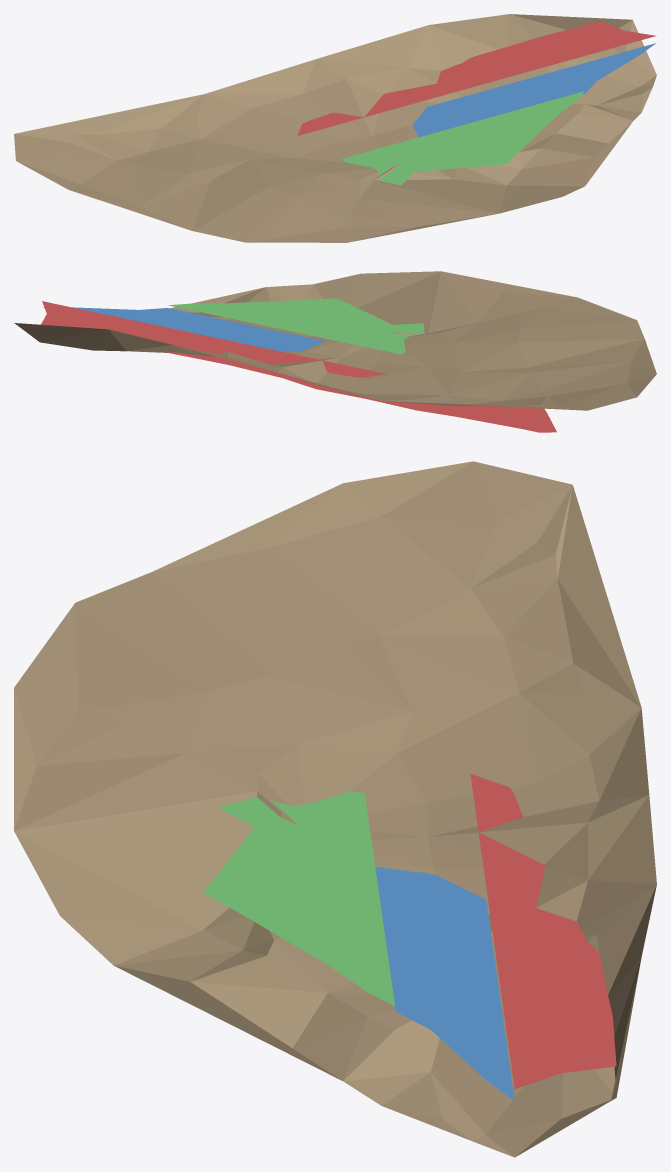
The model's file is CINCIN_arazi_SU_local.dae.
3 views of the same model, one above another, from view 1: azimuth 30°, elevation 25°; view 2: azimuth 150°, elevation 25°; view 3: azimuth 270°, elevation 25° (orthographic). The views are drawn at different scales.
Parts seen in each view (by area): view 1: n0, n3, n1, n2; view 2: n0, n1, n3, n2; view 3: n0, n3, n1, n2.
Boxes of the visible parts, x1,y1,x2,y2 form: n0: [14, 14, 656, 242]; n3: [342, 91, 584, 185]; n1: [297, 21, 656, 135]; n2: [412, 43, 656, 137]; n0: [14, 271, 656, 410]; n1: [41, 301, 556, 432]; n3: [168, 298, 424, 354]; n2: [43, 307, 325, 352]; n0: [14, 461, 656, 1157]; n3: [203, 792, 394, 1005]; n1: [470, 773, 616, 1088]; n2: [375, 866, 514, 1100].
Size of the model in its own units: 172 by 84 by 20.6.
